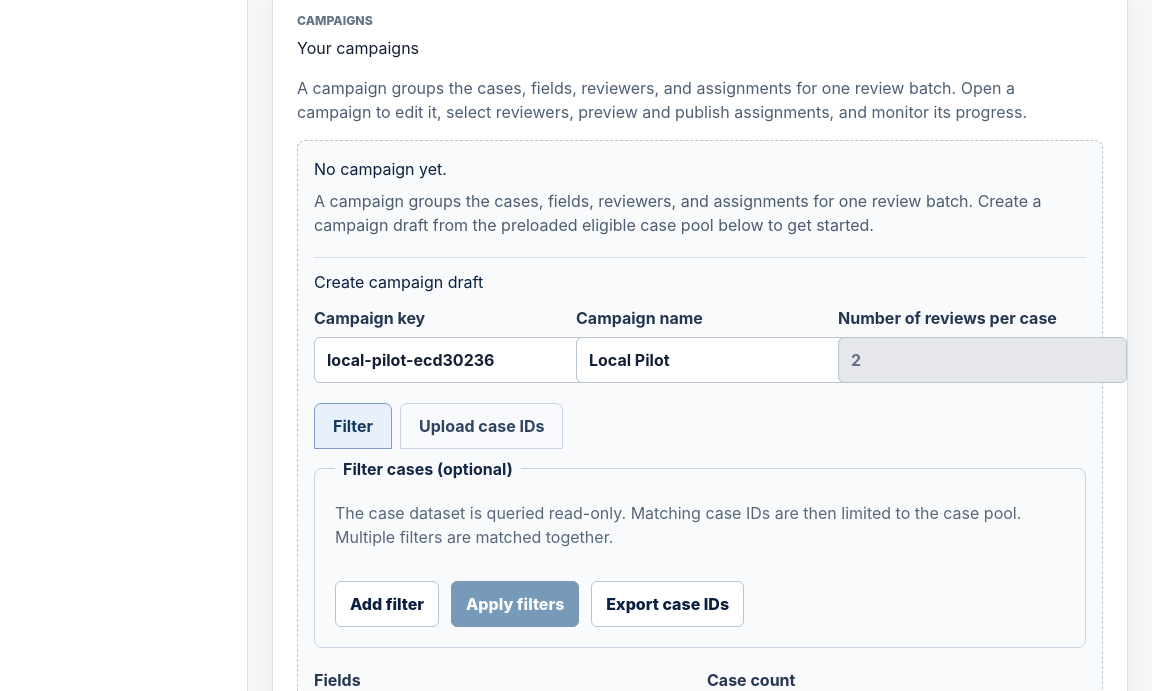
it: administration workflows › shows a duplicate-key error on 409 and clears it immediately when the key or name changes
(page scrolled)
Replace the text in the field labelled "Campaign key" with "dup-key". click: coordinates (458, 360)
box: [314,337,603,383]
(page scrolled)
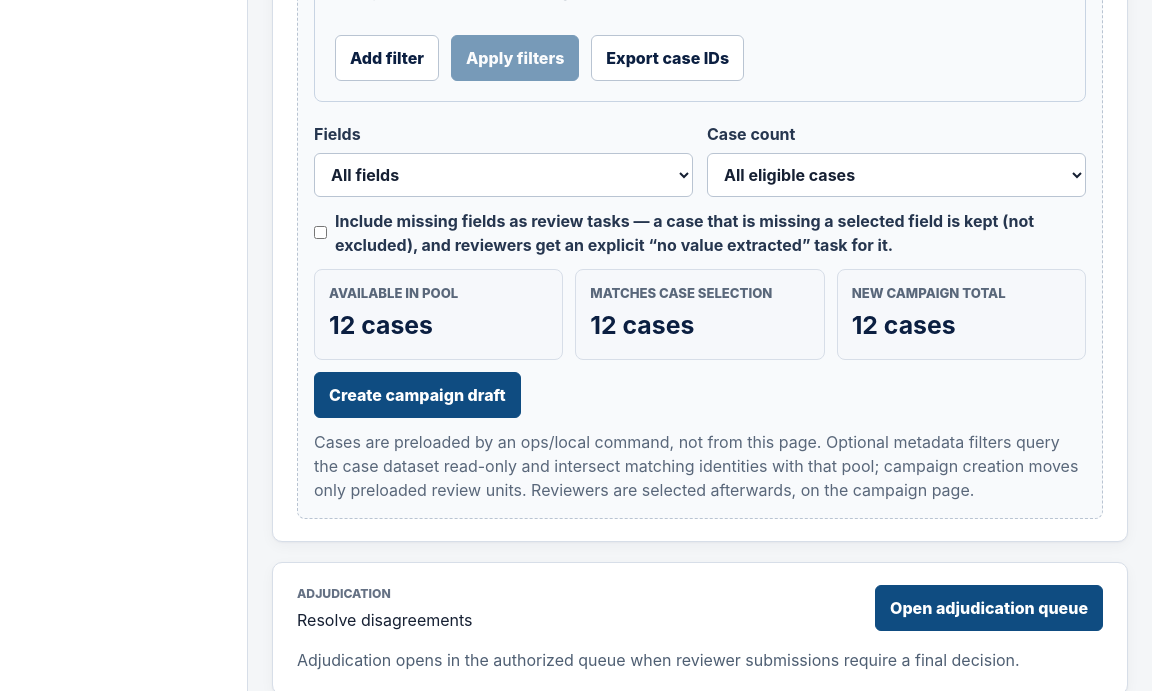
Click the button "Create campaign draft". click: coordinates (417, 395)
box: [314,372,521,418]
(page scrolled)
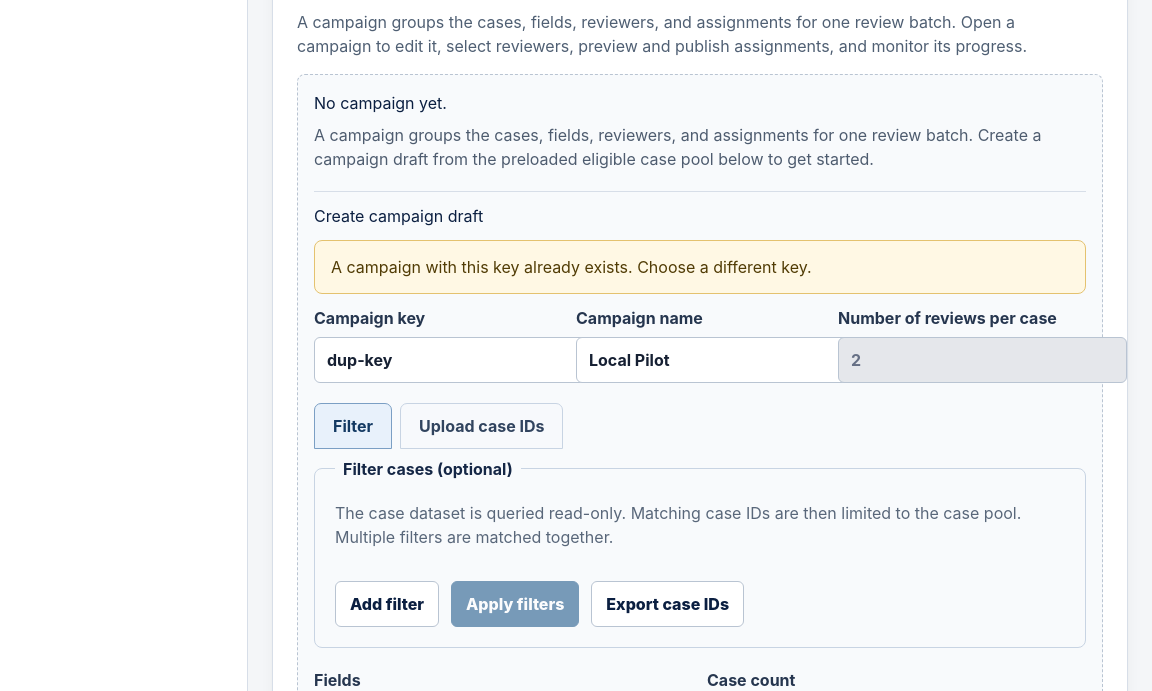
Expected: the text "A campaign with this key already exists. Choose a different key." is shown, [314,240,1086,294]
Type "-2" into the field labelled "Campaign key". click: coordinates (458, 360)
box: [314,337,603,383]
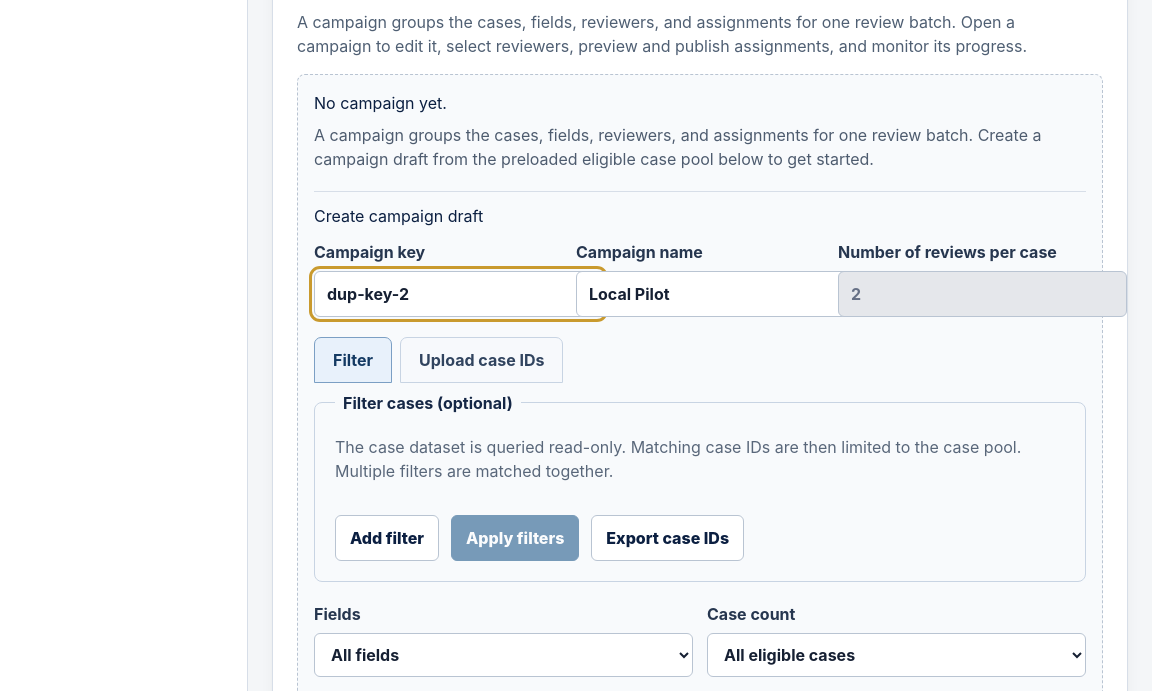
Expected: the text "A campaign with this key already exists" is gone
